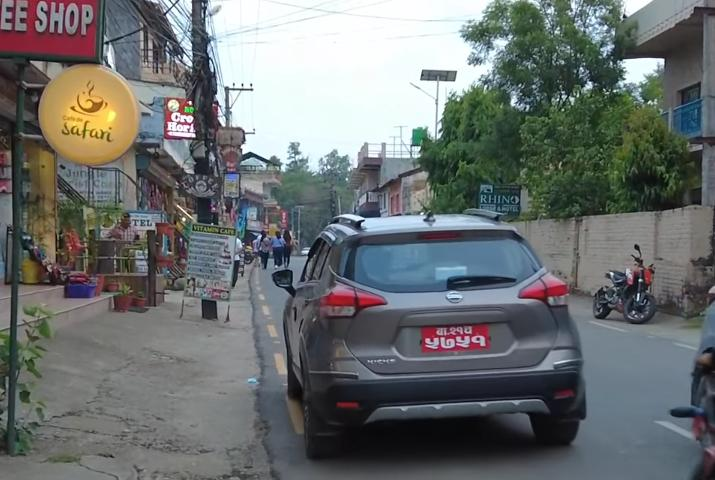bike: (594, 241, 659, 325)
car: (273, 212, 604, 465)
